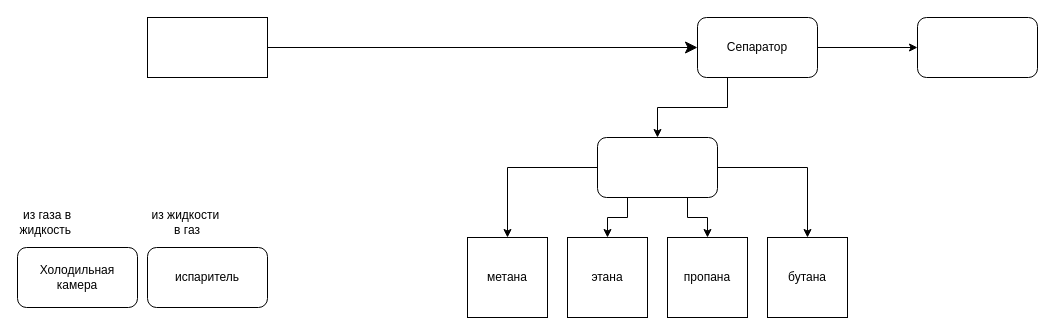
Some shapes in this 1055 by 335 pixel diagram are drawn without their labels. The shapes that lost their labels are listed below. From the top down, each one's centre as x and y in pixels, then its label:
the point at 207,47: Сырая нефть
the point at 977,47: Очищенная (обессоленная) нефть
the point at 657,167: нефтяной газ
